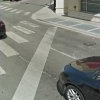crosswalk: (0, 20, 39, 74), (0, 5, 32, 15)
